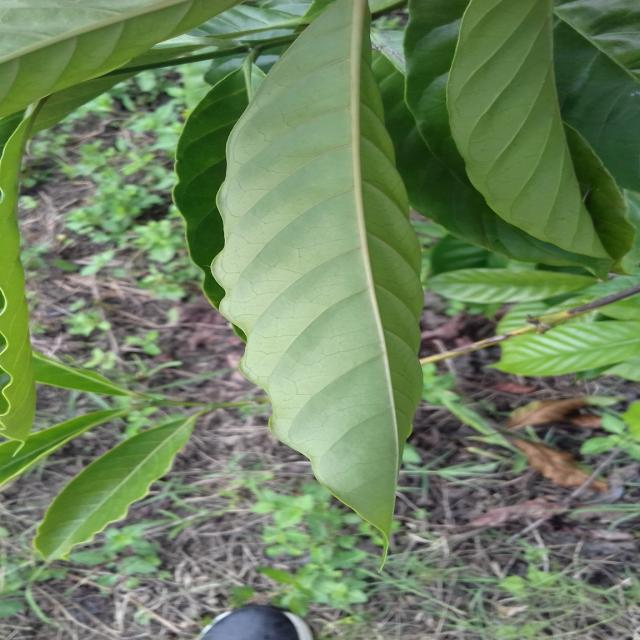Sanas: (212, 0, 424, 543)
